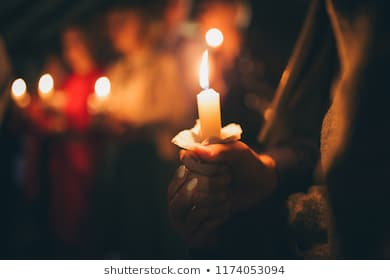Fire: (197, 51, 215, 90), (92, 75, 115, 99), (35, 71, 58, 95), (9, 75, 26, 100), (206, 27, 226, 47)
